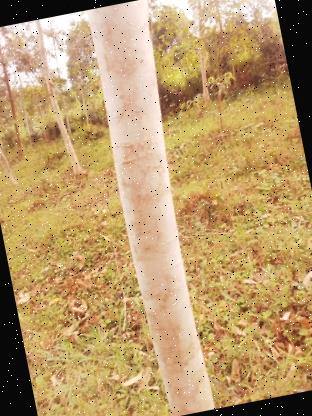tree: (70, 0, 240, 416)
